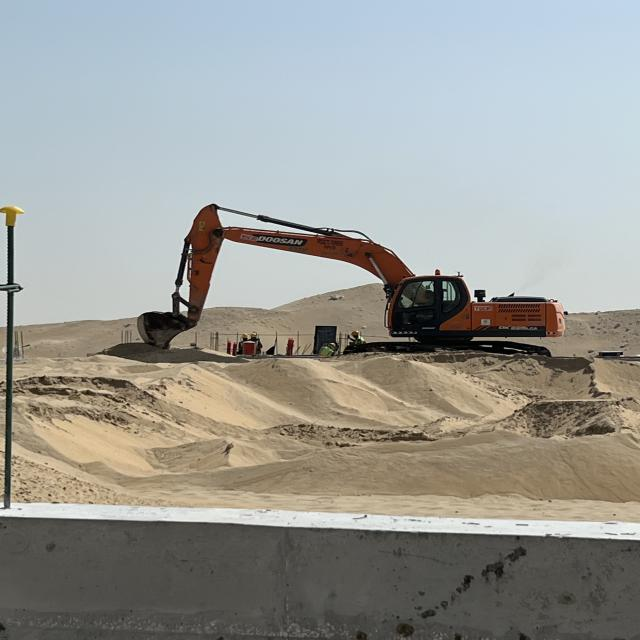excavator: (136, 198, 566, 374)
